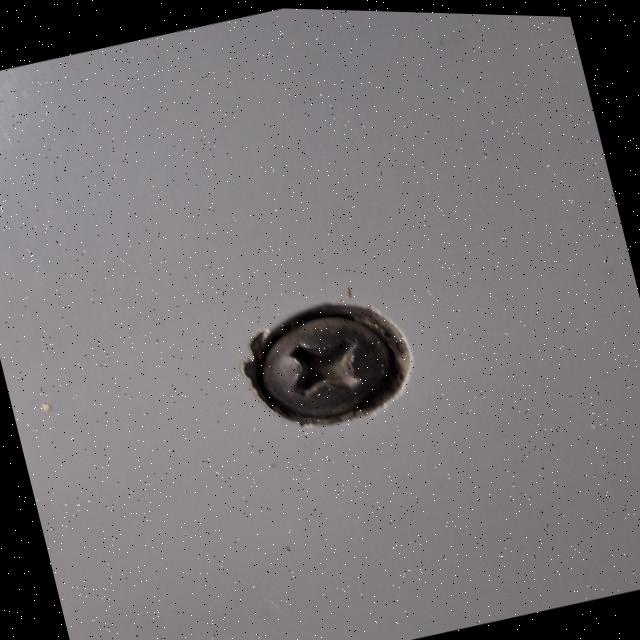Phillips: (210, 279, 423, 461)
